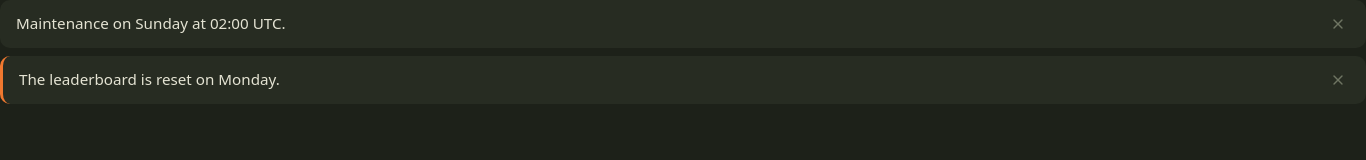
Scenario: AnnouncementBanner › dismisses one announcement by id and remembers it in localStorage
Later steps or results of the test are not shown.
Click the button named "Dismiss announcement" in the row of "Maintenance on Sunday at 02:00 UTC.": click(1338, 24) left=1326, top=12, right=1350, bottom=36
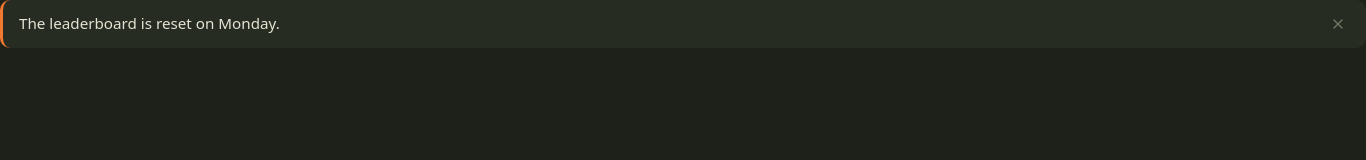
Expected: the text "The leaderboard is reset on Monday." is shown, left=18, top=12, right=280, bottom=33
Now the text "Maintenance on Sunday at 02:00 UTC." is gone
